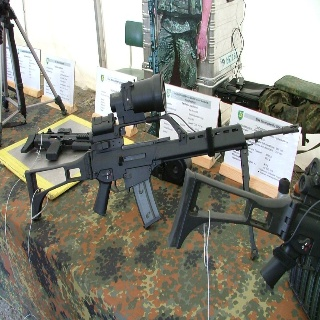rifle: (25, 73, 303, 229), (168, 164, 320, 290), (21, 123, 91, 160)
